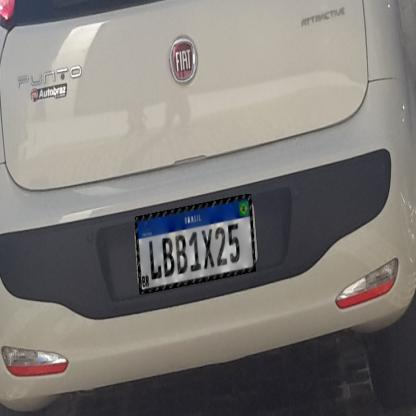PlacaM: (135, 194, 256, 295)
